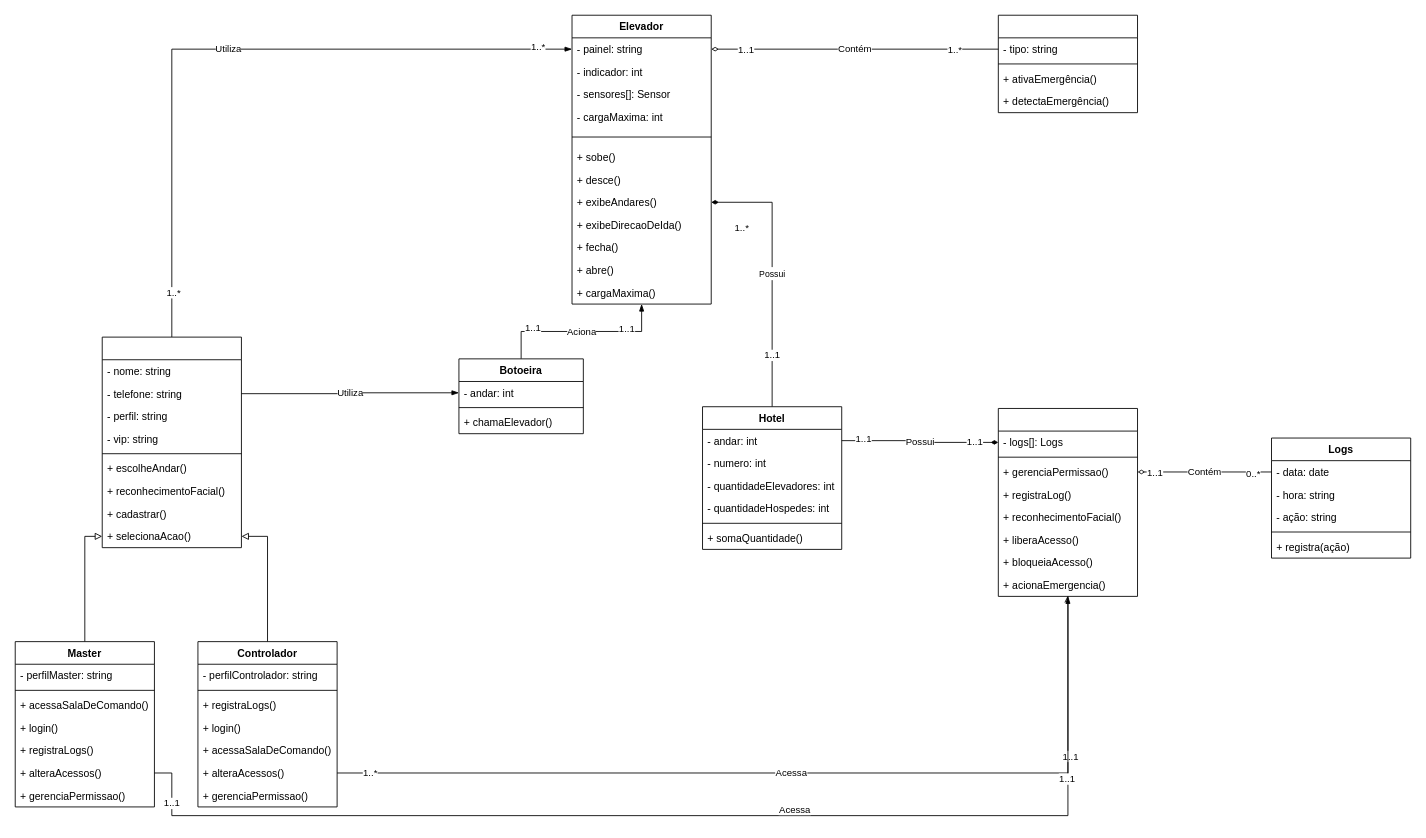
Some shapes in this 1426 by 838 pixel diagram are drawn without their labels. The box of each missing label's shape, as (x1, y1, x2, y2) in pixels:
Sala de Comando: (997, 408, 1138, 596)
Sensor: (997, 14, 1138, 113)
Usuário: (101, 336, 241, 548)
